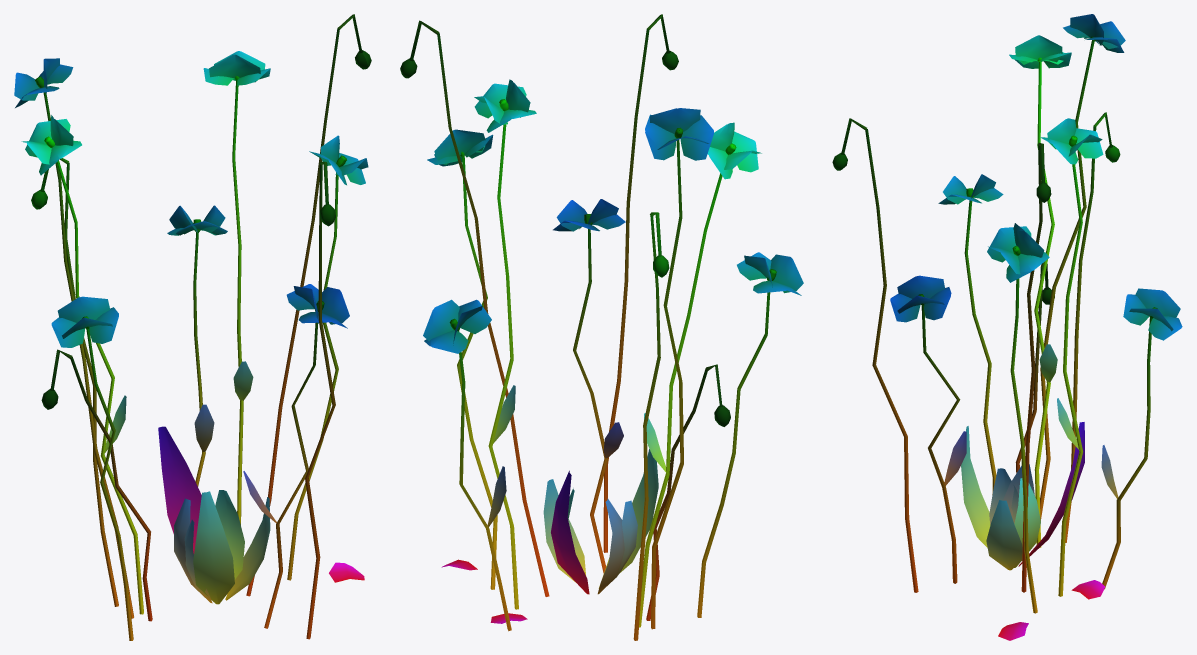
Rendered from SM_Flower_Poppy_B_LOD1.fbx.
3 views of the same model, side by side, from view 1: azimuth 30°, elevation 25°; view 2: azimuth 150°, elevation 25°; view 3: azimuth 270°, elevation 25° (orthographic). The views are drawn at different scales.
Visible parts, largest first — view 1: SM_Flower_Poppy_B_LOD1; view 2: SM_Flower_Poppy_B_LOD1; view 3: SM_Flower_Poppy_B_LOD1.
Boxes of the visible parts, x1,y1,x2,y2 form: SM_Flower_Poppy_B_LOD1: [14, 14, 371, 640]; SM_Flower_Poppy_B_LOD1: [400, 14, 803, 640]; SM_Flower_Poppy_B_LOD1: [832, 14, 1182, 640].
Size of the model in its own units: 0.4281 by 0.6399 by 0.4029.
